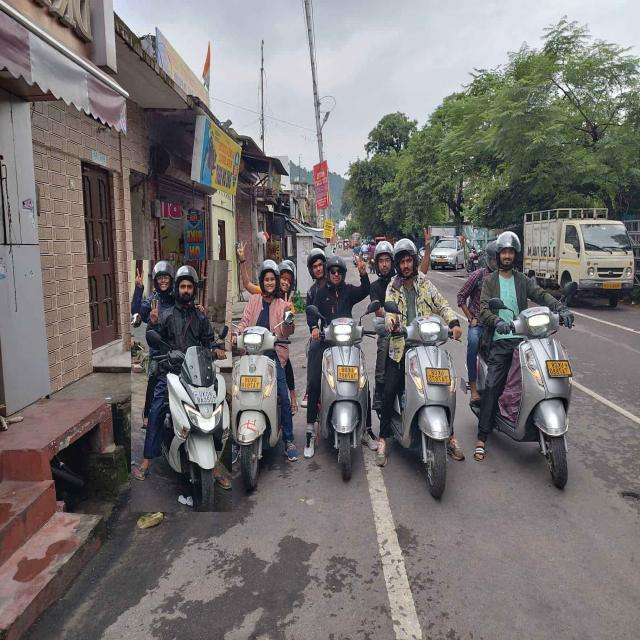car: (430, 236, 465, 271)
motorcycle: (458, 232, 578, 488), (131, 260, 231, 512), (370, 232, 464, 498), (221, 242, 298, 492), (301, 248, 380, 480)
truck: (524, 208, 635, 307)
